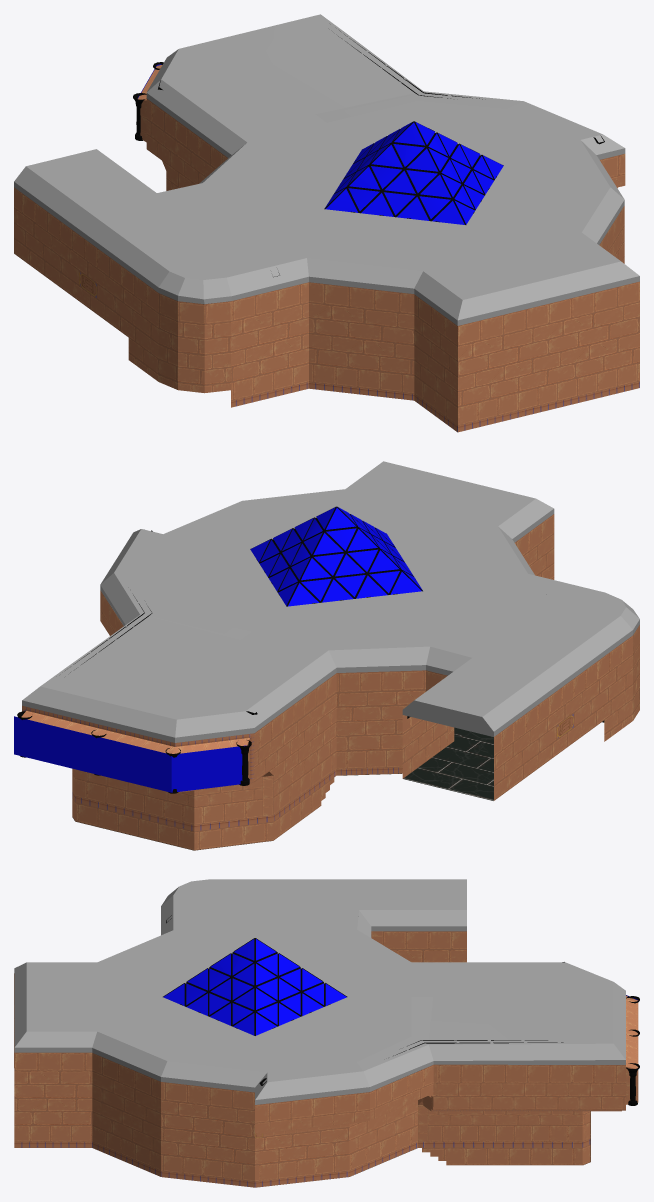
3 renders of one model, top to bottom at view 1: azimuth 30°, elevation 25°; view 2: azimuth 150°, elevation 25°; view 3: azimuth 270°, elevation 25°, orthographic. The views are drawn at different scales.
Visible parts, largest first — view 1: SM_Rest_001, SM_LDWall_001; view 2: SM_Rest_001, SM_LDWall_001, SM_LdGround_001; view 3: SM_Rest_001, SM_LDWall_001.
Part boxes in pixels (x1=…): SM_Rest_001: x1=14, y1=14, x2=639, y2=325; SM_LDWall_001: x1=14, y1=65, x2=639, y2=432; SM_Rest_001: x1=14, y1=461, x2=639, y2=793; SM_LDWall_001: x1=21, y1=514, x2=639, y2=850; SM_LdGround_001: x1=72, y1=720, x2=604, y2=850; SM_Rest_001: x1=14, y1=879, x2=639, y2=1105; SM_LDWall_001: x1=14, y1=931, x2=638, y2=1187.
Size of the model in its own units: 3133 by 1273 by 3857.
